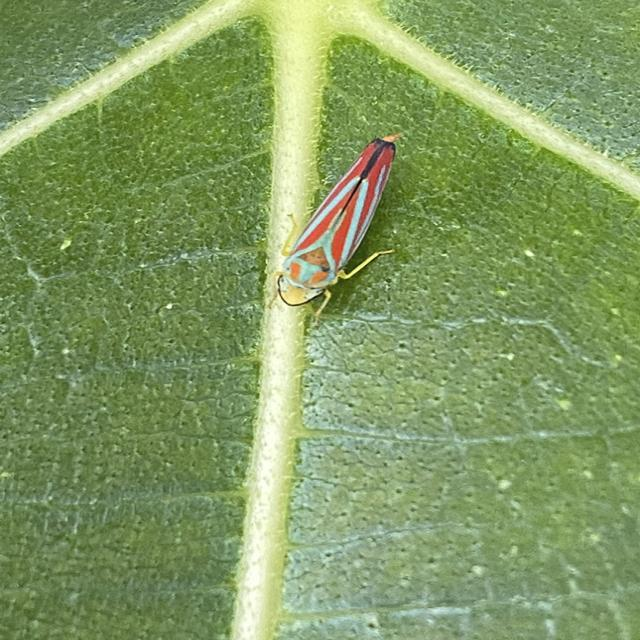Yechan: (246, 125, 433, 316)
